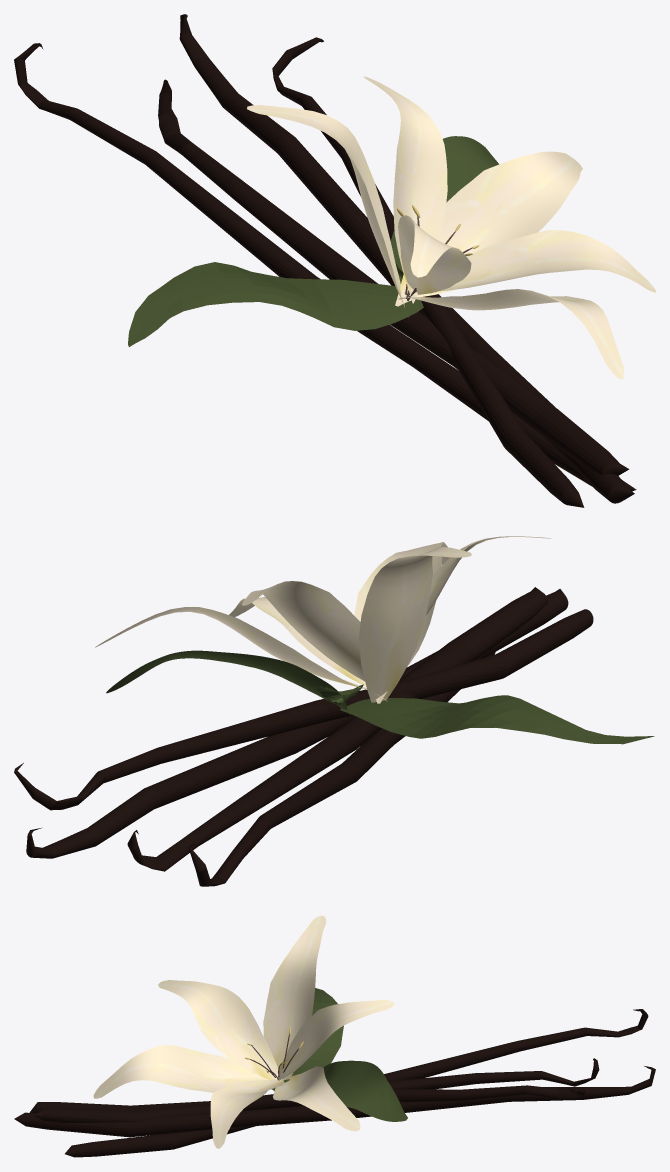
File: vanilla.glb
3 renders of one model, top to bottom at view 1: azimuth 30°, elevation 25°; view 2: azimuth 150°, elevation 25°; view 3: azimuth 270°, elevation 25°, orthographic. The views are drawn at different scales.
Parts seen in each view (by area): view 1: petals_2_Cylinder.004, Cylinder.002, leaf__Cylinder.006, Cylinder.003, Cylinder, Cylinder.001, leaf__Cylinder.001; view 2: petals_2_Cylinder.004, Cylinder.001, Cylinder.002, Cylinder, leaf__Cylinder.006, Cylinder.003, leaf__Cylinder.001; view 3: petals_2_Cylinder.004, Cylinder, Cylinder.003, Cylinder.002, Cylinder.001, leaf__Cylinder.001, leaf__Cylinder.006.
Part boxes in pixels (bbox=[...]): petals_2_Cylinder.004: bbox=[247, 76, 655, 379]; Cylinder.002: bbox=[158, 79, 629, 475]; leaf__Cylinder.006: bbox=[128, 262, 423, 346]; Cylinder.003: bbox=[14, 43, 636, 491]; Cylinder: bbox=[179, 14, 634, 503]; Cylinder.001: bbox=[272, 37, 584, 507]; leaf__Cylinder.001: bbox=[390, 136, 498, 283]; petals_2_Cylinder.004: bbox=[95, 536, 551, 703]; Cylinder.001: bbox=[14, 609, 593, 810]; Cylinder.002: bbox=[127, 587, 548, 871]; Cylinder: bbox=[26, 589, 568, 858]; leaf__Cylinder.006: bbox=[340, 695, 654, 744]; Cylinder.003: bbox=[188, 652, 495, 886]; leaf__Cylinder.001: bbox=[106, 650, 363, 714]; petals_2_Cylinder.004: bbox=[93, 915, 393, 1148]; Cylinder: bbox=[14, 1066, 655, 1137]; Cylinder.003: bbox=[65, 1009, 648, 1157]; Cylinder.002: bbox=[34, 1058, 599, 1122]; Cylinder.001: bbox=[29, 1085, 585, 1112]; leaf__Cylinder.001: bbox=[283, 1060, 407, 1121]; leaf__Cylinder.006: bbox=[272, 988, 343, 1090].
Bounding box in the file's own units: 3.2 × 1.73 × 5.4.
Materials: 5 (1 with a texture image).
